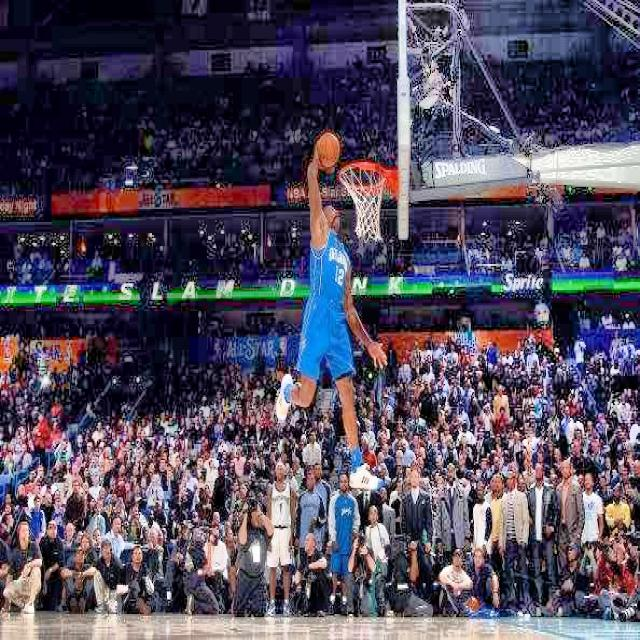board: (318, 134, 339, 168)
rim: (340, 161, 393, 241)
